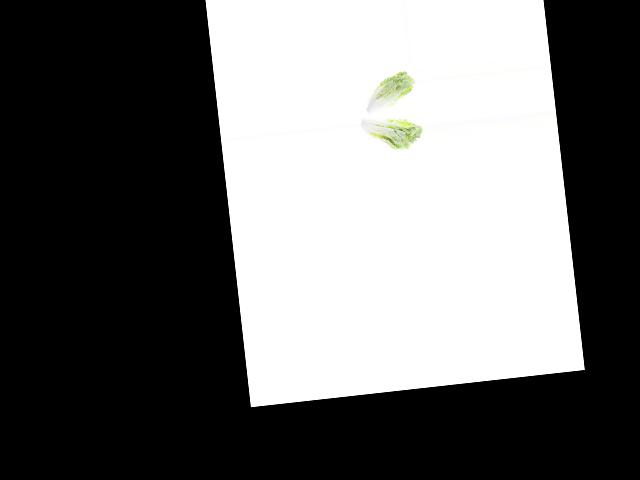lettuce: (356, 68, 417, 114)
